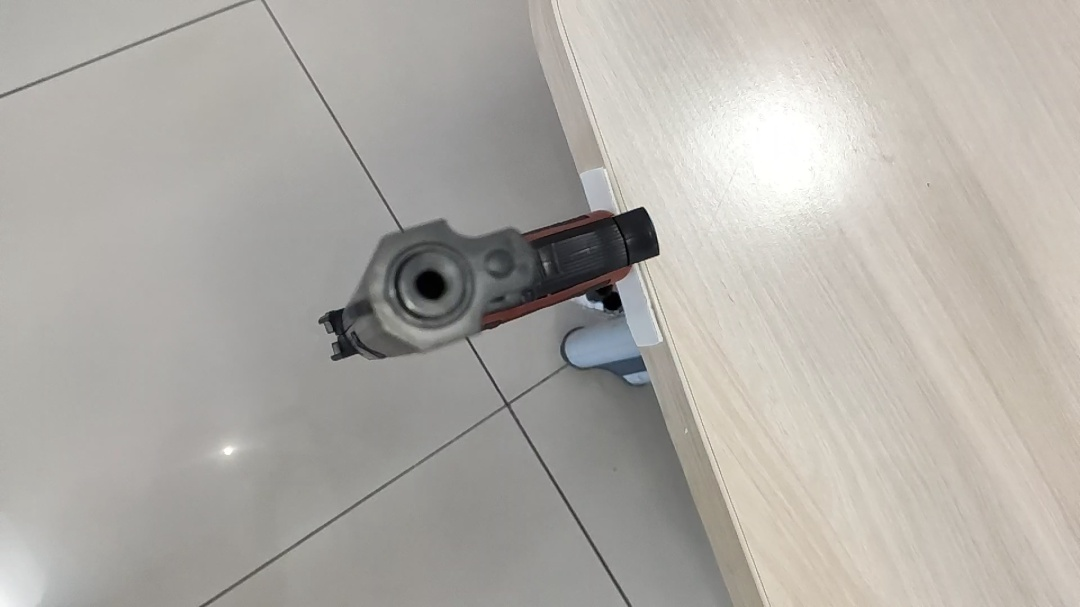gun: (337, 251, 386, 267)
